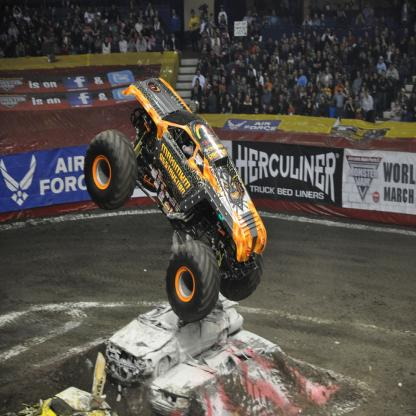Car: (84, 78, 268, 325), (105, 292, 245, 384)
